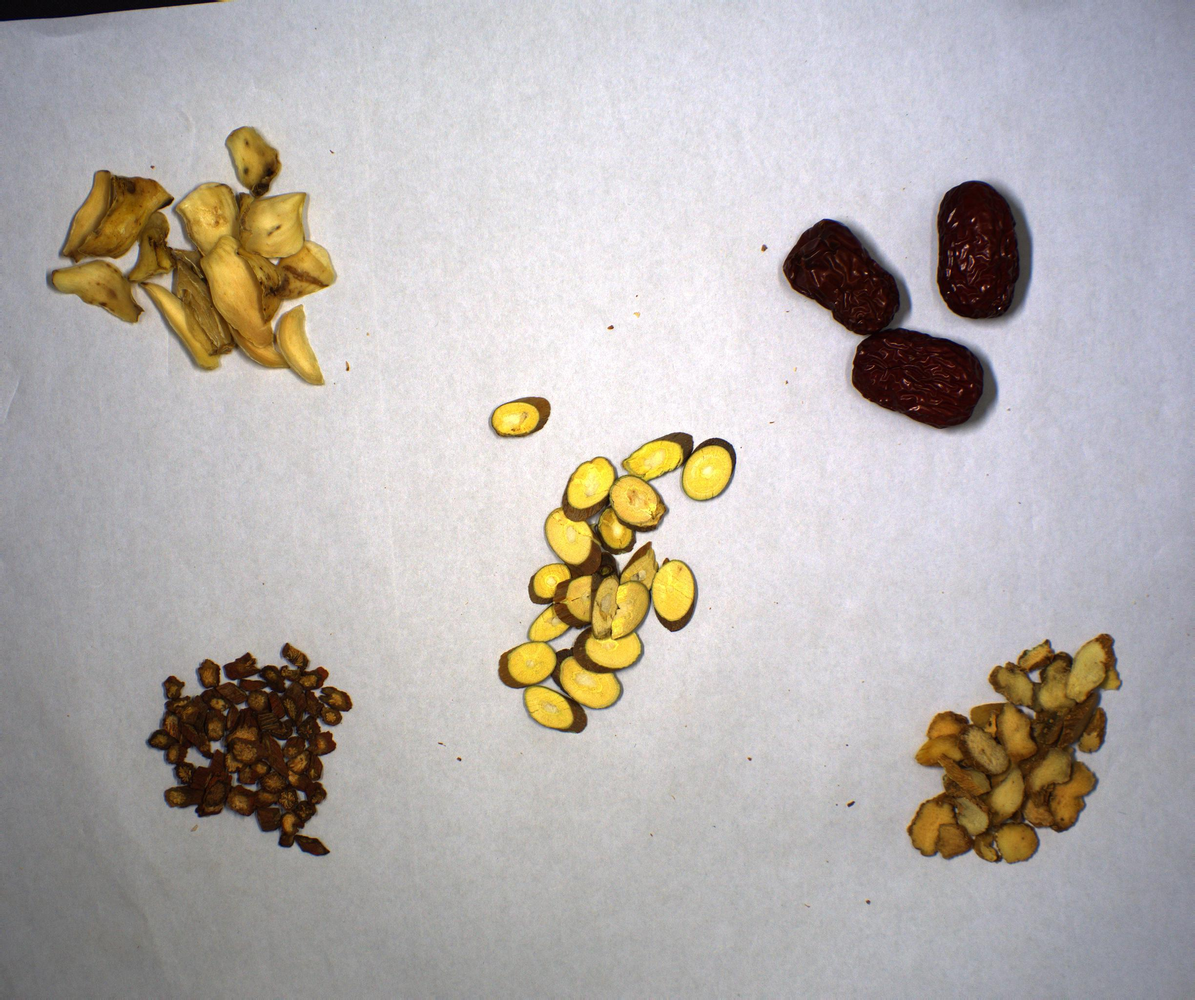baihe: (40, 123, 351, 393)
danshen: (144, 638, 360, 862)
dazao: (776, 176, 1035, 438)
sangzhi: (479, 397, 742, 739)
yuzhu: (905, 632, 1136, 871)
